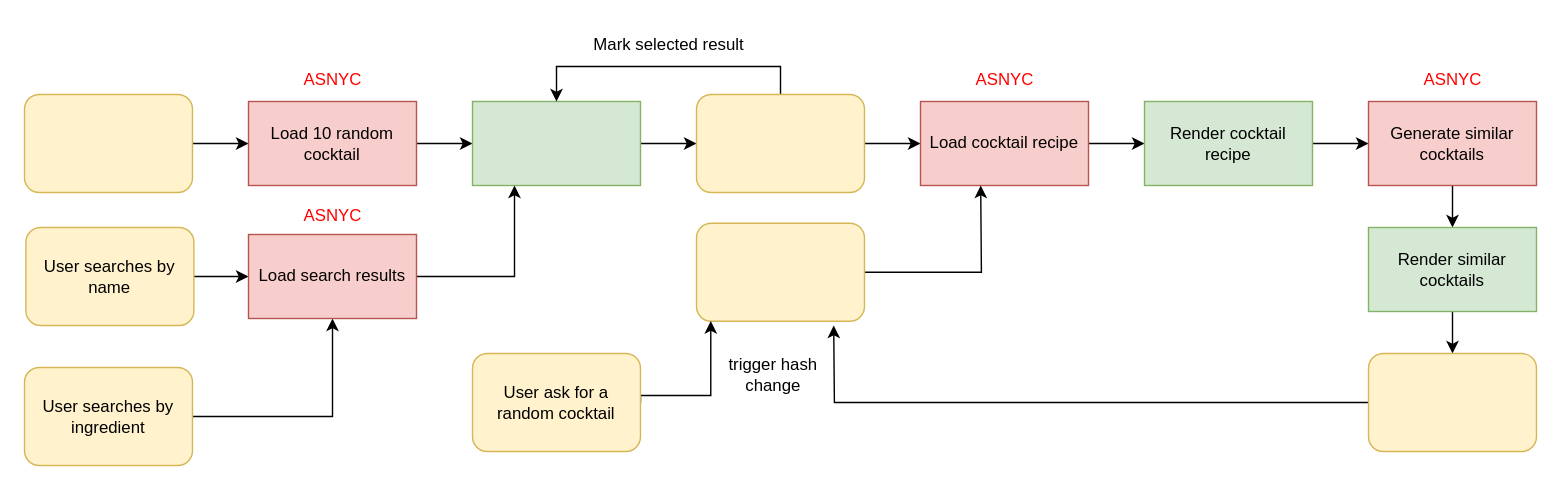
Some shapes in this 1561 by 490 pixel diagram are drawn without their labels. Each missing label, with the centre of its shape:
Page load with recipe id (hash change): the point at 779,271
Render results on side bar: the point at 555,143
User click on similar cocktail: the point at 1451,401
User selects cocktail: the point at 779,142
User visit front page: the point at 107,142
